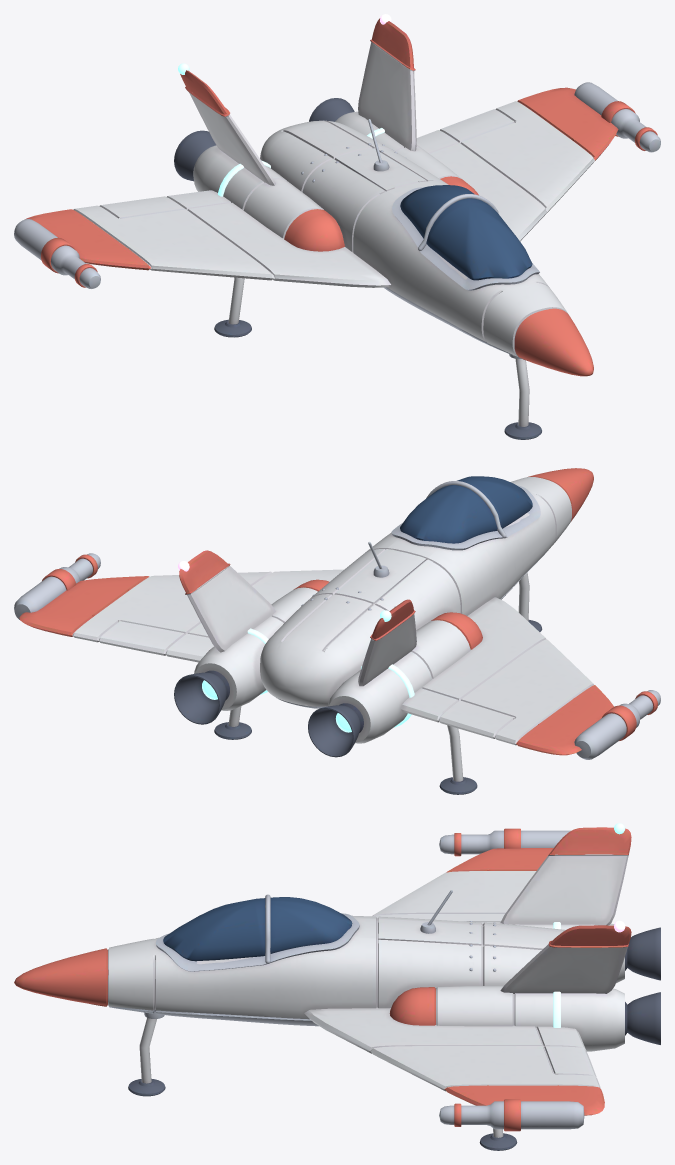
The model's file is f-86-sabre-jet.glb.
3 views of the same model, one above another, from view 1: azimuth 30°, elevation 25°; view 2: azimuth 150°, elevation 25°; view 3: azimuth 270°, elevation 25° (orthographic).
Visible parts, largest first — view 1: space-fighter_body; view 2: space-fighter_body, space-fighter_engine_glow; view 3: space-fighter_body.
Boxes of the visible parts, left/top/right/bottom form: space-fighter_body: left=14, top=18, right=660, bottom=439; space-fighter_body: left=14, top=468, right=660, bottom=794; space-fighter_engine_glow: left=202, top=628, right=414, bottom=732; space-fighter_body: left=14, top=827, right=660, bottom=1150.
Size of the model in its own units: 8.61 by 3.06 by 8.28.
4 materials, 1 textured.
